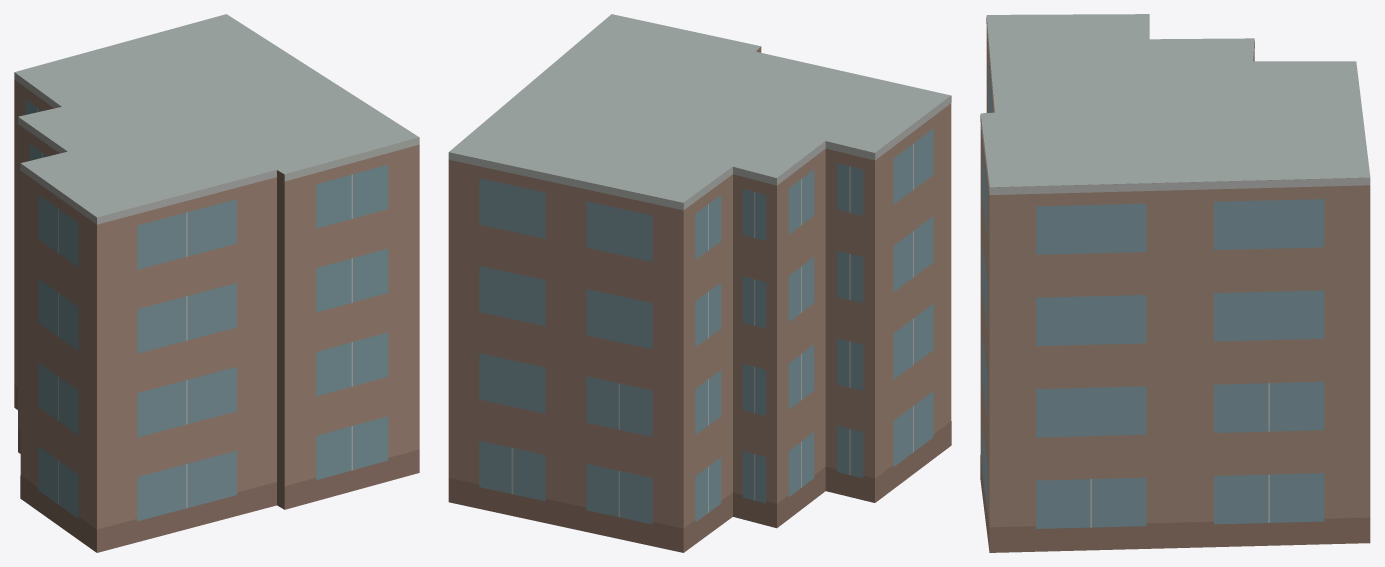
Rendered from survey-upis-32746327.glb.
The picture shows the model from 3 angles, left to right: view 1: azimuth 30°, elevation 25°; view 2: azimuth 150°, elevation 25°; view 3: azimuth 270°, elevation 25°; orthographic projection. The views are drawn at different scales.
Parts seen in each view (by area): view 1: survey-upis-32746327.tmp; view 2: survey-upis-32746327.tmp; view 3: survey-upis-32746327.tmp.
Part boxes in pixels (x1,y1,x2,y2): survey-upis-32746327.tmp: [14, 14, 419, 552]; survey-upis-32746327.tmp: [448, 14, 951, 552]; survey-upis-32746327.tmp: [980, 14, 1370, 552].
Size of the model in its own units: 11.6 by 11.4 by 11.03.
